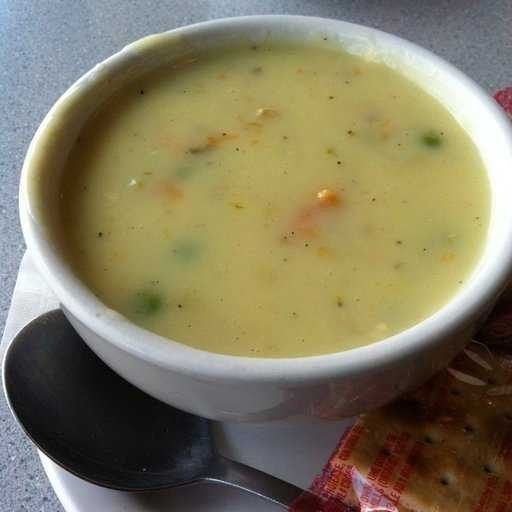soup: (61, 44, 473, 357)
